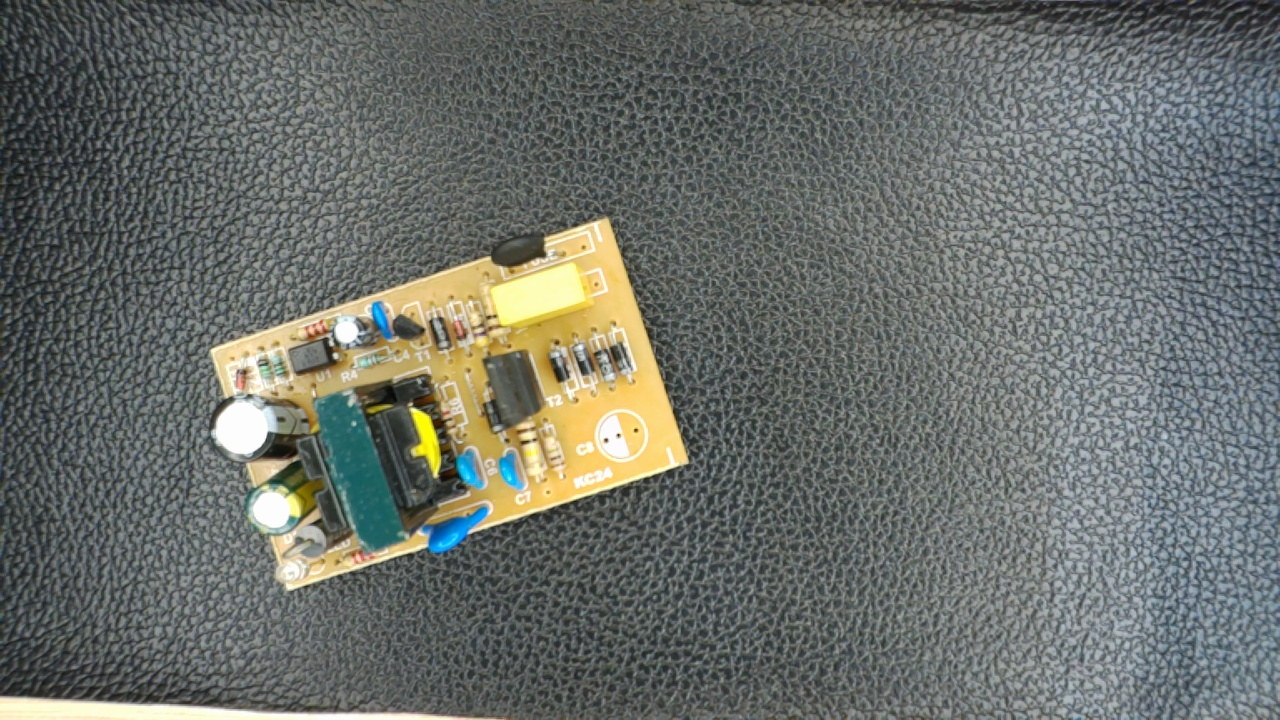fuse: (482, 233, 573, 272)
mov: (402, 498, 494, 554)
optocoupler: (279, 333, 350, 378)
